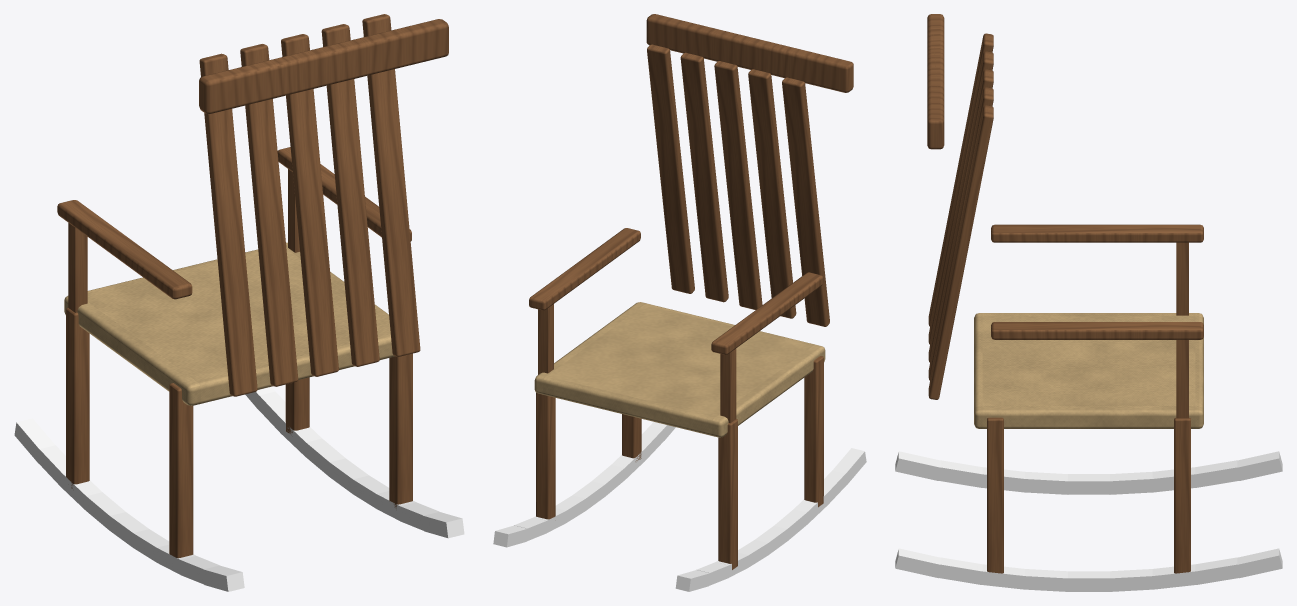
The model's file is escena.casa.mecedora.fbx.
3 views of the same model, side by side, from view 1: azimuth 30°, elevation 25°; view 2: azimuth 150°, elevation 25°; view 3: azimuth 270°, elevation 25° (orthographic). The views are drawn at different scales.
Parts seen in each view (by area): view 1: Asiento, Travesano, Liston.004, Liston.003, Liston, Liston.002, Liston.001, Pata.003, Pata.002, Apoyabrazos.001, Pata.001, Soporte del brazo.001 (+18 smaller); view 2: Asiento, Travesano, Liston.001, Liston, Liston.002, Liston.004, Liston.003, Pata.003, Pata.002, Apoyabrazos.001, Apoyabrazos, Pata (+13 smaller); view 3: Asiento, Apoyabrazos.001, Liston, Apoyabrazos, Pata.001, Pata, Travesano, Liston.003, Liston.001, Liston.002, Liston.004, Soporte del brazo (+19 smaller).
Boxes of the visible parts, x1,y1,x2,y2 form: Asiento: (64,242,395,405); Travesano: (199,19,448,114); Liston.004: (199,53,257,396); Liston.003: (240,44,298,386); Liston: (362,14,420,356); Liston.002: (281,34,338,376); Liston.001: (321,24,379,366); Pata.003: (169,383,193,558); Pata.002: (66,307,89,488); Apoyabrazos.001: (57,200,192,299); Pata.001: (389,353,412,508); Soporte del brazo.001: (68,223,87,312); Asiento: (534,302,825,437); Travesano: (646,14,853,92); Liston.001: (680,52,728,302); Liston: (647,44,694,293); Liston.002: (714,61,762,309); Liston.004: (782,77,829,326); Liston.003: (748,69,796,318); Pata.003: (804,356,823,507); Pata.002: (718,419,737,569); Apoyabrazos.001: (711,272,823,354); Apoyabrazos: (529,228,640,310); Pata: (536,392,555,519); Asiento: (974,313,1203,428); Apoyabrazos.001: (991,224,1203,242); Liston: (928,105,993,399); Apoyabrazos: (991,322,1203,339); Pata.001: (987,417,1003,573); Pata: (1174,417,1190,573); Travesano: (927,14,944,149); Liston.003: (928,51,993,344); Liston.001: (928,87,993,380); Liston.002: (928,69,993,362); Liston.004: (928,33,993,326); Soporte del brazo: (1176,340,1188,418).
Bounding box in the file's own units: 0.6 × 1.23 × 0.9103.
3 materials, 2 textured.
